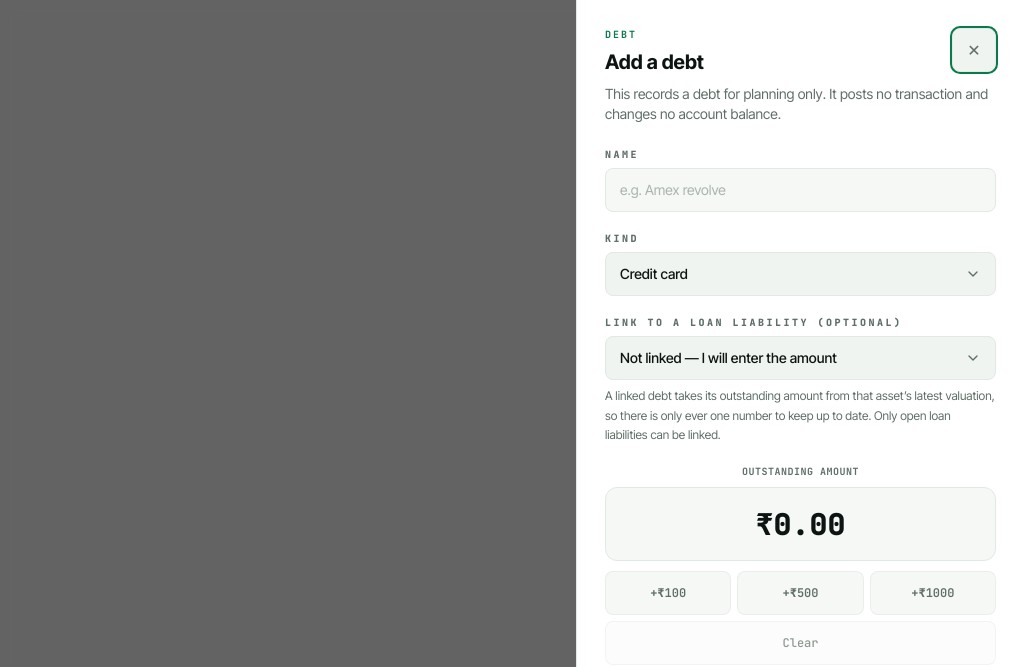
Test case: DebtFormSheet › replaces the amount field with an explanation once a debt is linked
The width and height of the screenshot is (1024, 667).
Step 1. Click the dropdown named "Linked loan liability" → click(800, 358), box [605,336,996,380]
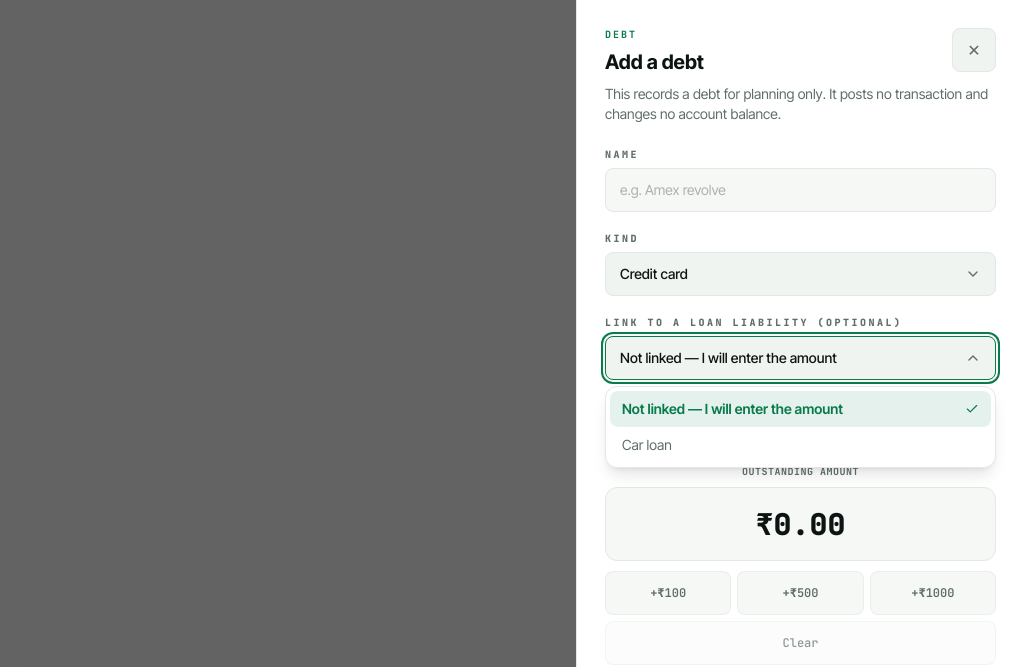
Step 2. Click the option "Car loan" → click(647, 444), box [622,436,672,453]
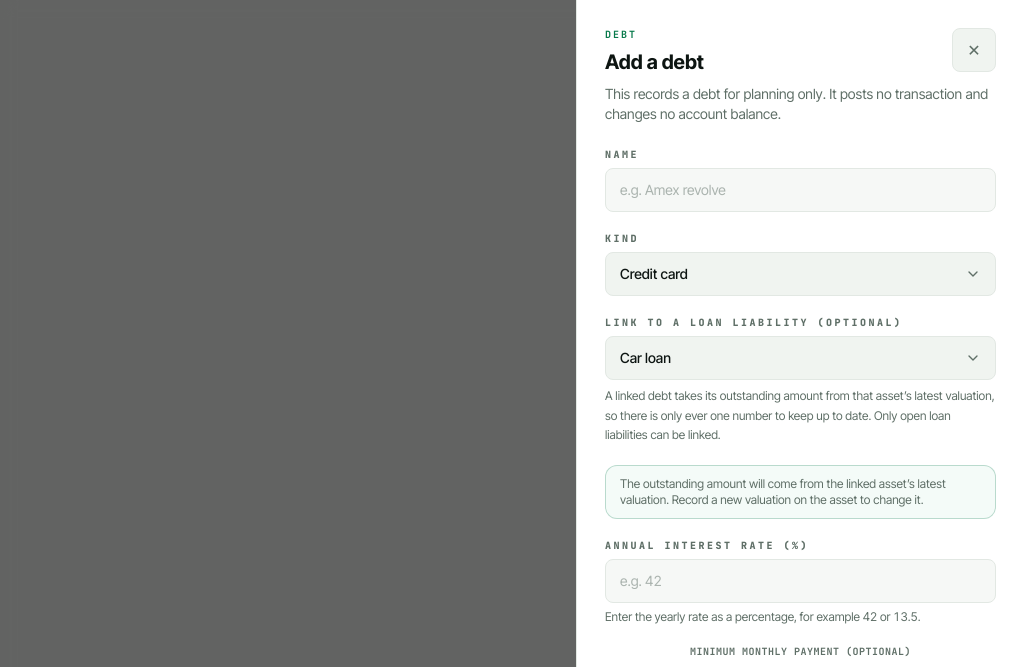
Expected: the text "outstanding amount will come from the linked asset.s latest valuation" is shown, [620,476,946,506]
